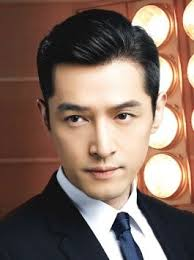asian_male: (51, 32, 173, 194)
